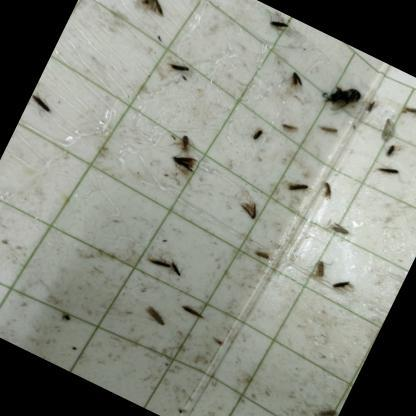prays_oleae: (19, 79, 64, 133), (161, 140, 208, 190), (122, 0, 178, 38), (160, 48, 201, 88), (162, 249, 198, 291), (231, 192, 266, 231), (273, 114, 307, 151), (140, 297, 174, 331), (176, 297, 209, 330), (283, 171, 317, 203), (306, 252, 335, 288), (320, 216, 352, 248), (264, 11, 296, 40), (372, 156, 403, 185), (246, 117, 271, 151), (279, 66, 307, 96), (172, 127, 198, 157), (314, 178, 340, 208), (248, 244, 276, 270), (316, 118, 340, 144), (328, 274, 352, 296)
